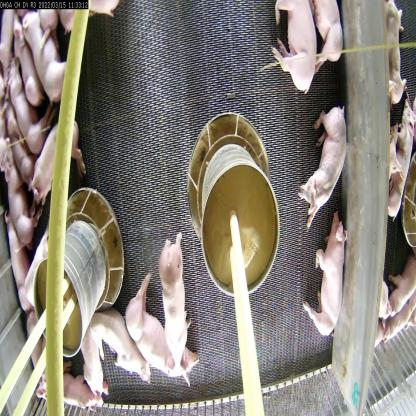Pig: (127, 275, 198, 389), (301, 200, 348, 362), (294, 98, 350, 225), (152, 226, 198, 375), (20, 113, 100, 190), (90, 297, 144, 396), (270, 0, 318, 100), (26, 6, 70, 110), (3, 58, 44, 164), (304, 0, 356, 70), (9, 0, 39, 120), (0, 144, 37, 237), (72, 326, 106, 386)
